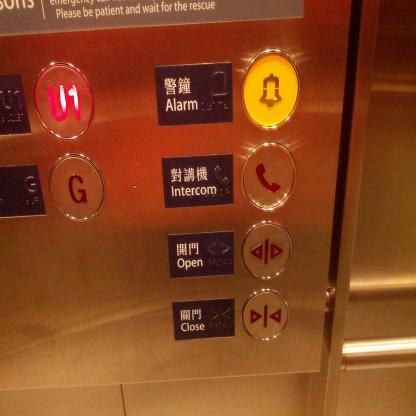G: (48, 152, 107, 224)
U1: (34, 58, 94, 142)
alarm: (240, 47, 301, 132)
call: (239, 140, 297, 214)
close: (240, 286, 290, 344)
open: (239, 218, 294, 282)
text_alarm bell: (152, 60, 235, 128)
text_close door: (170, 296, 236, 343)
text_intercom: (160, 152, 235, 210)
text_open door: (165, 230, 237, 280)
